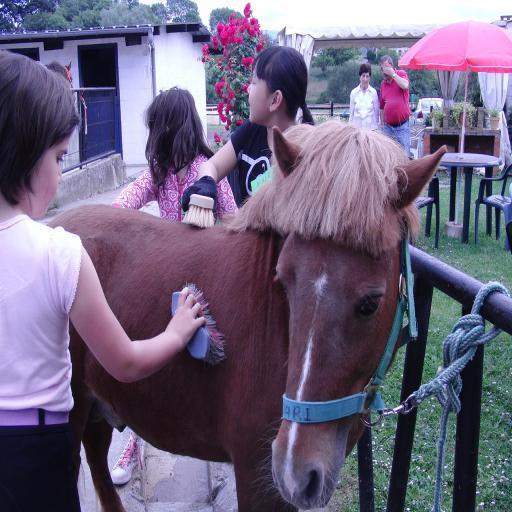horse: (46, 114, 448, 512)
